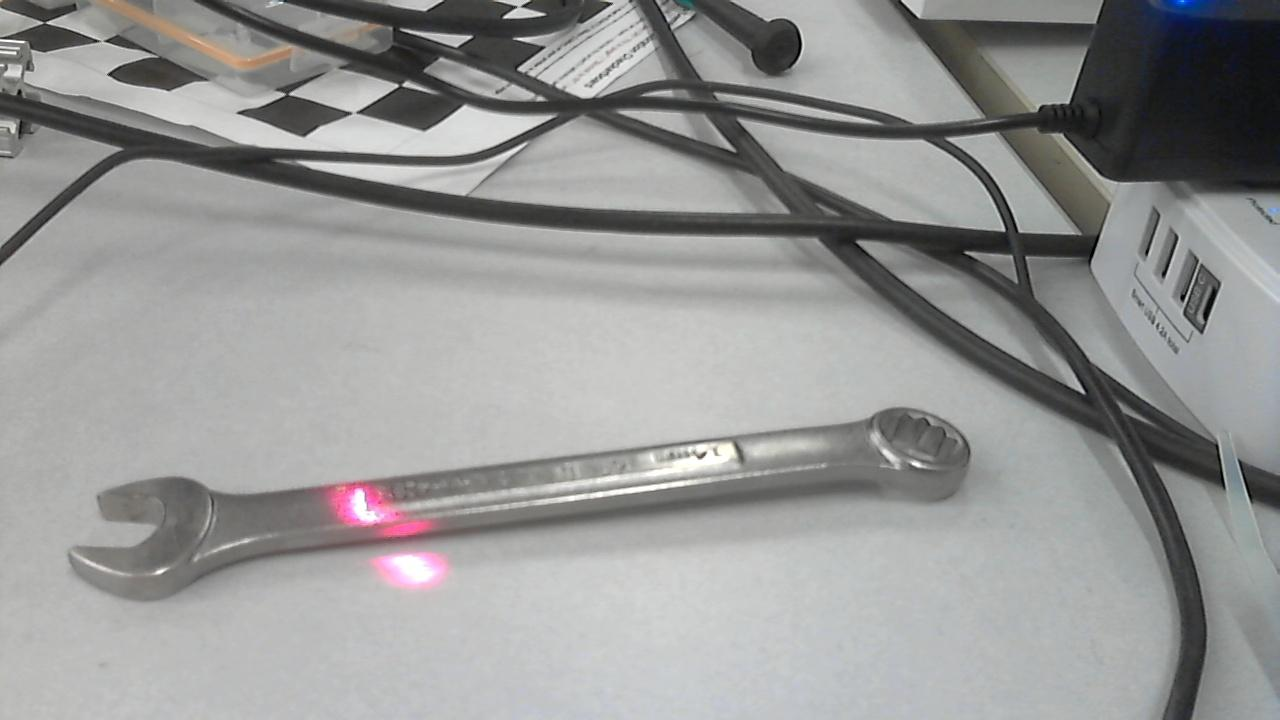Object combination wrench - Material metal- Pdfname faefasdffdaea: (323, 479, 439, 543)
